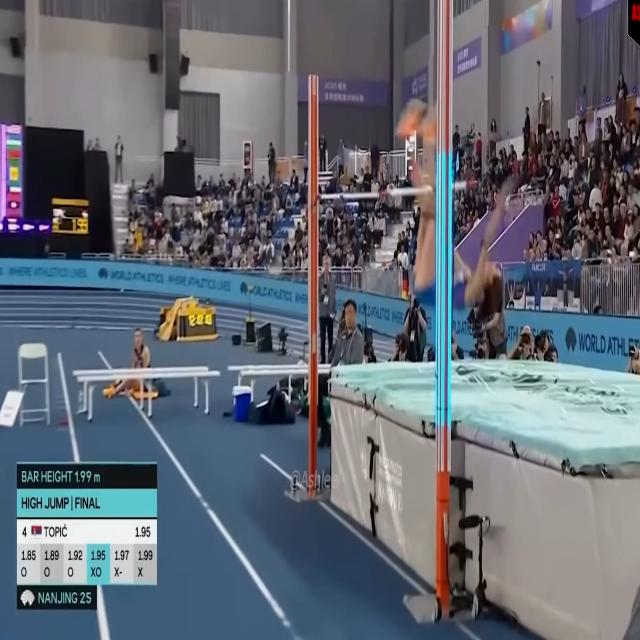land: (399, 93, 511, 310)
